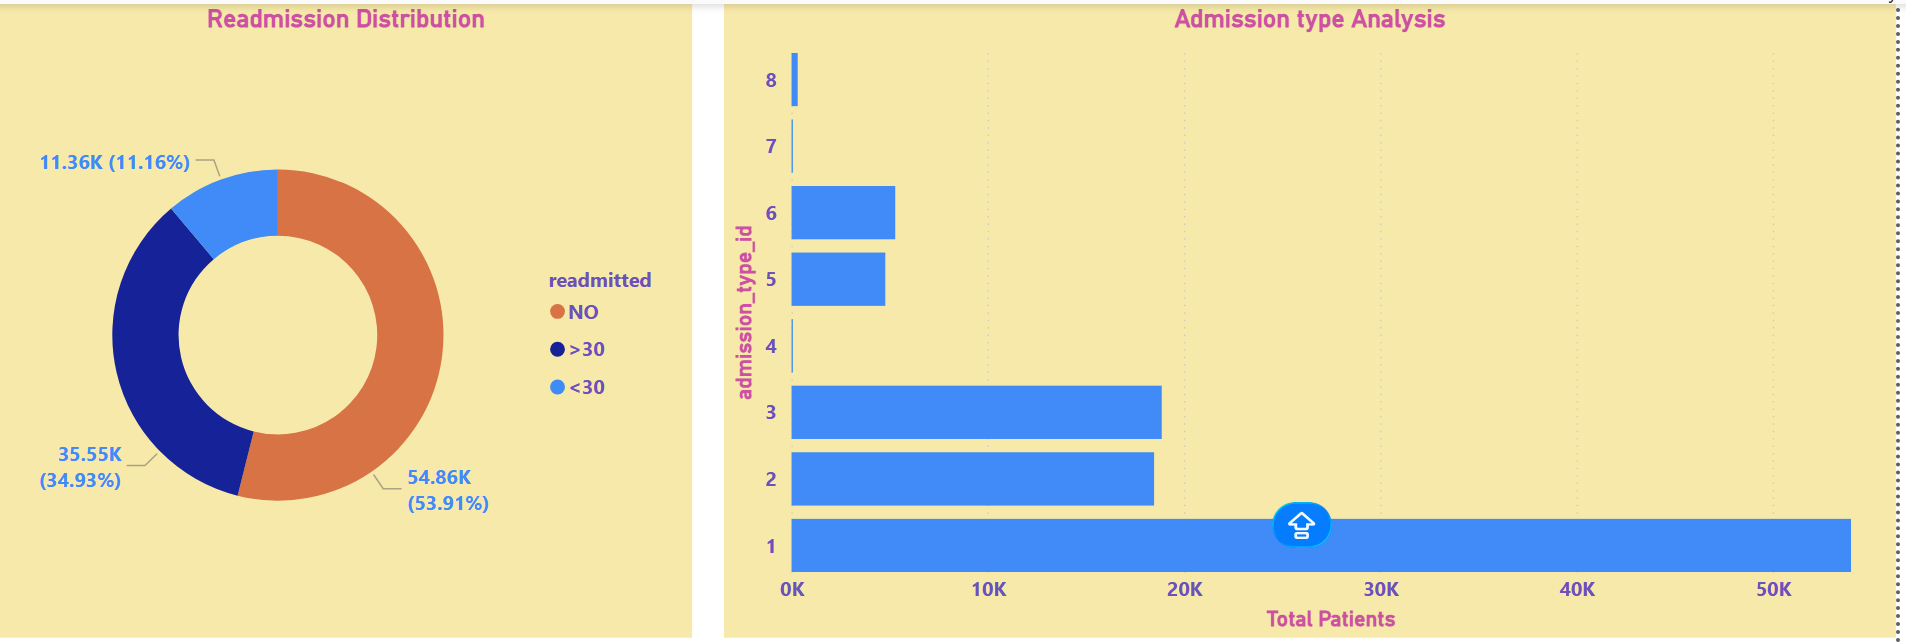

The dashboard page shown, as its layout file describes it:
{"tool":"powerbi","page":{"name":"Overview Dashboard 01","canvas":[1280,720],"ordinal":0},"visuals":[{"type":"donutChart","title":"Readmission Distribution","fields":{"Category":["cleaned_data.readmitted"],"Y":["CountNonNull(cleaned_data.readmitted)"]},"box":[0,0,467.4,428.2],"z":0},{"type":"barChart","title":"Admission type Analysis","fields":{"Category":["cleaned_data.admission_type_id"],"Y":["cleaned_data.Total Patients"]},"box":[489,0,791.6,428.2],"z":1}]}

Visuals, with their boxes on the page's 1280x720 design canvas (x1, y1, x2, y2). These are canvas units, not pixel positions in the 1906x644 screenshot, which may show the page scaled, cropped or inside an application window:
"Readmission Distribution" donutChart: [0,0,467,428]
"Admission type Analysis" barChart: [489,0,1281,428]
